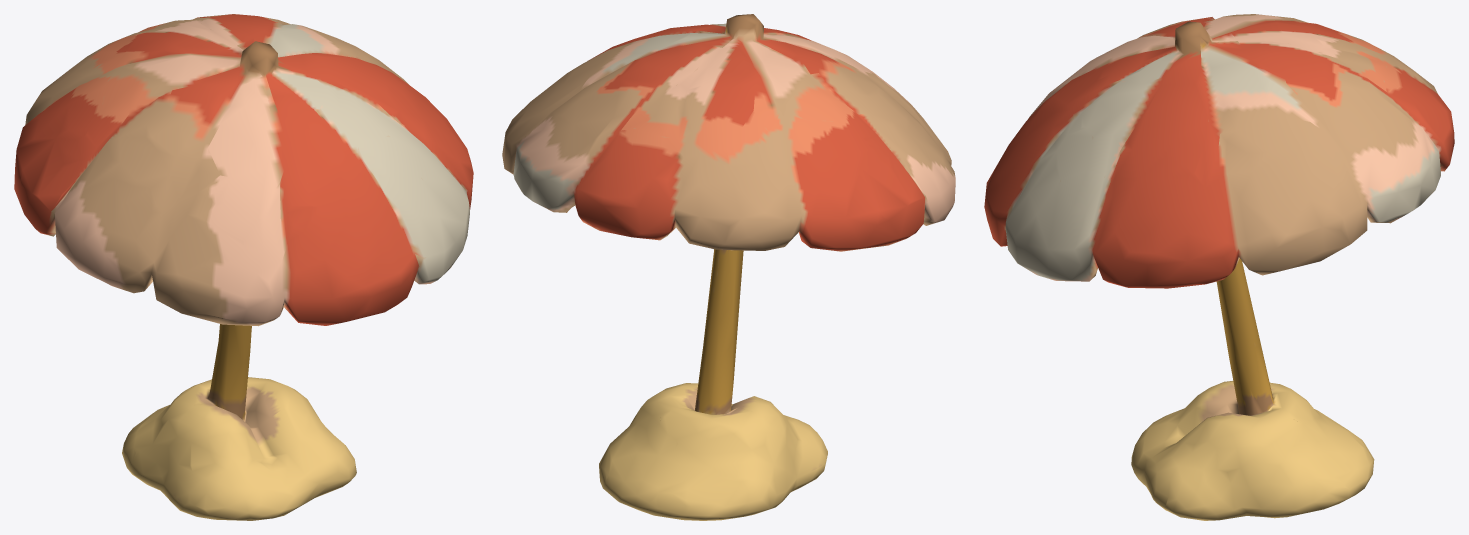
The model's file is f-umbrella.glb.
The picture shows the model from 3 angles, left to right: view 1: azimuth 30°, elevation 25°; view 2: azimuth 150°, elevation 25°; view 3: azimuth 270°, elevation 25°; orthographic projection.
Visible parts, largest first — view 1: tripo_node_ac9dfdd9-e9ae-4cd7-bf07-8071d28f564a; view 2: tripo_node_ac9dfdd9-e9ae-4cd7-bf07-8071d28f564a; view 3: tripo_node_ac9dfdd9-e9ae-4cd7-bf07-8071d28f564a.
Part boxes in pixels (x1,y1,x2,y2): tripo_node_ac9dfdd9-e9ae-4cd7-bf07-8071d28f564a: (14, 14, 473, 520); tripo_node_ac9dfdd9-e9ae-4cd7-bf07-8071d28f564a: (502, 14, 955, 520); tripo_node_ac9dfdd9-e9ae-4cd7-bf07-8071d28f564a: (984, 14, 1454, 520).
Bounding box in the file's own units: 0.915 × 1 × 0.9357.
Materials: 1 (1 with a texture image).
